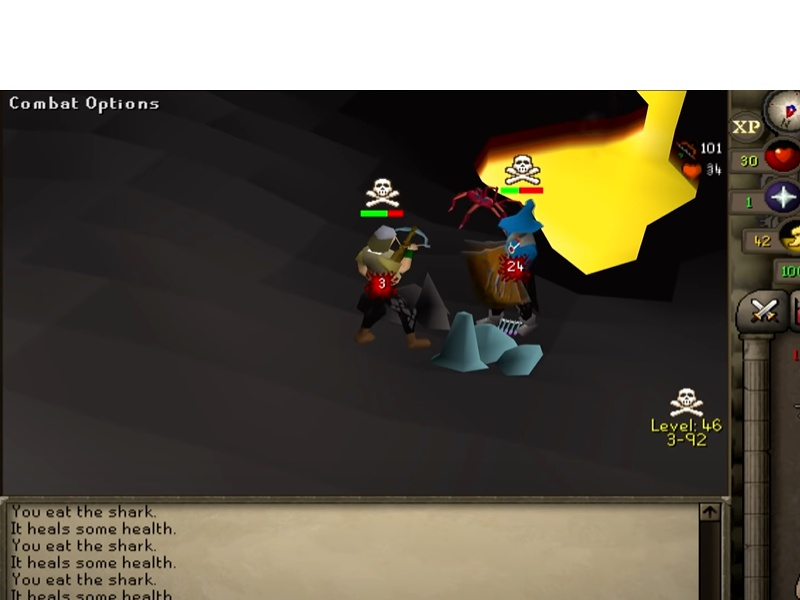rune: (429, 306, 547, 382)
